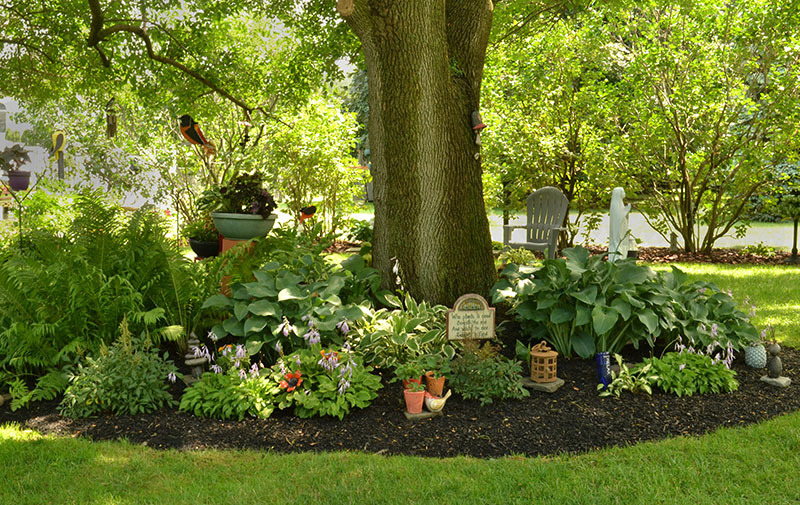grass: (0, 426, 795, 501)
tree: (345, 2, 501, 302)
